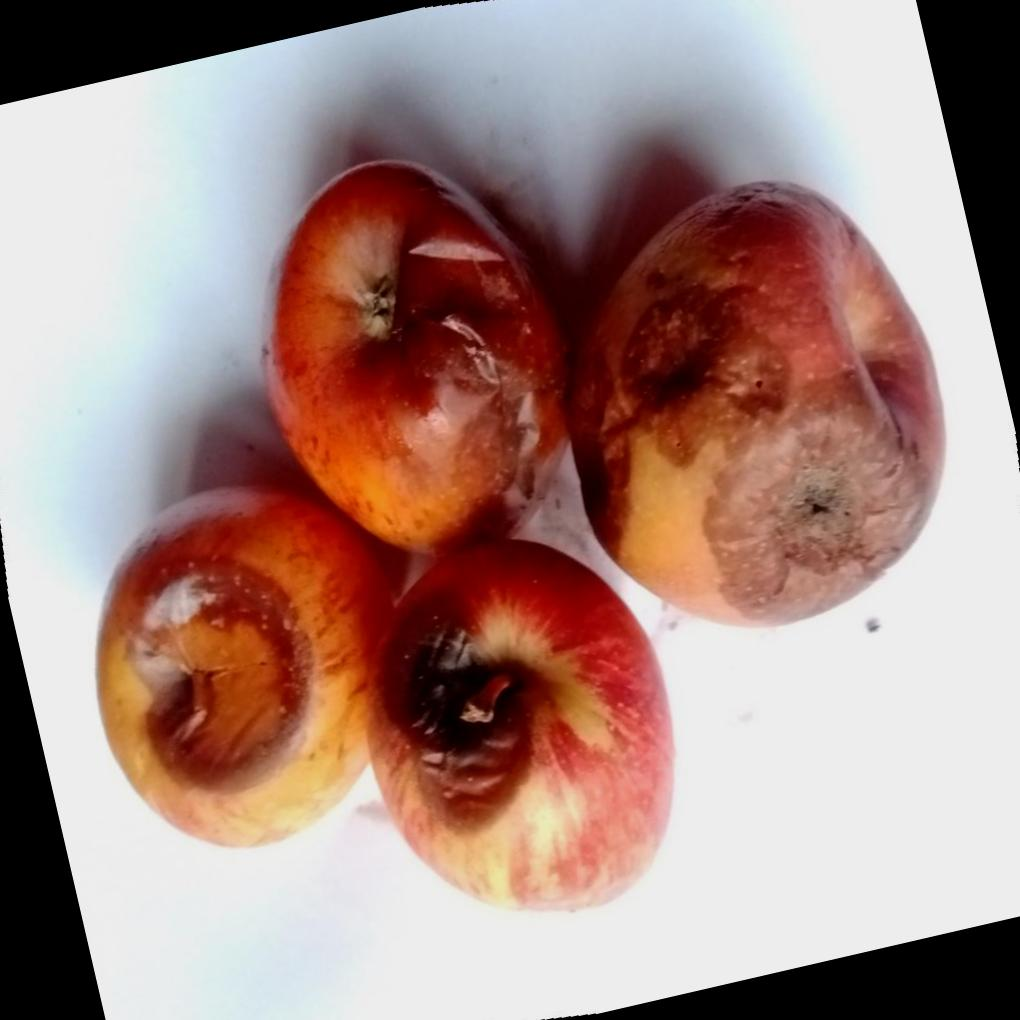FreshOrange: (93, 159, 944, 885)
